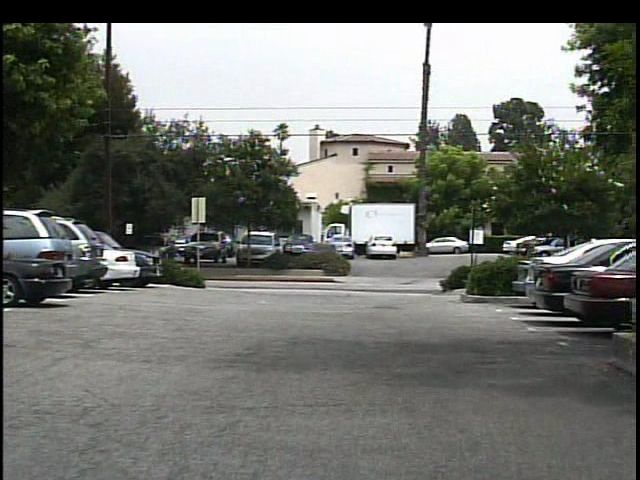person: (164, 238, 186, 282)
